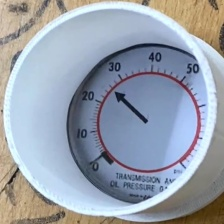gauge: (67, 41, 208, 204)
